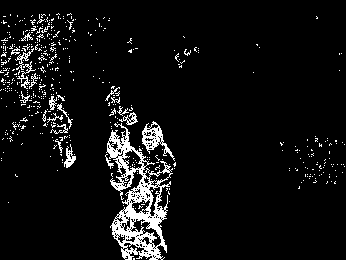person: (111, 193, 168, 260), (140, 120, 174, 214), (104, 127, 135, 205), (46, 93, 77, 168)
